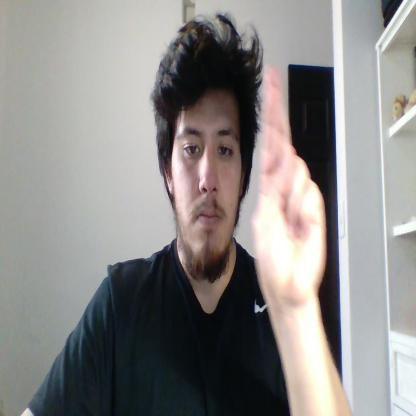R: (254, 66, 327, 304)
